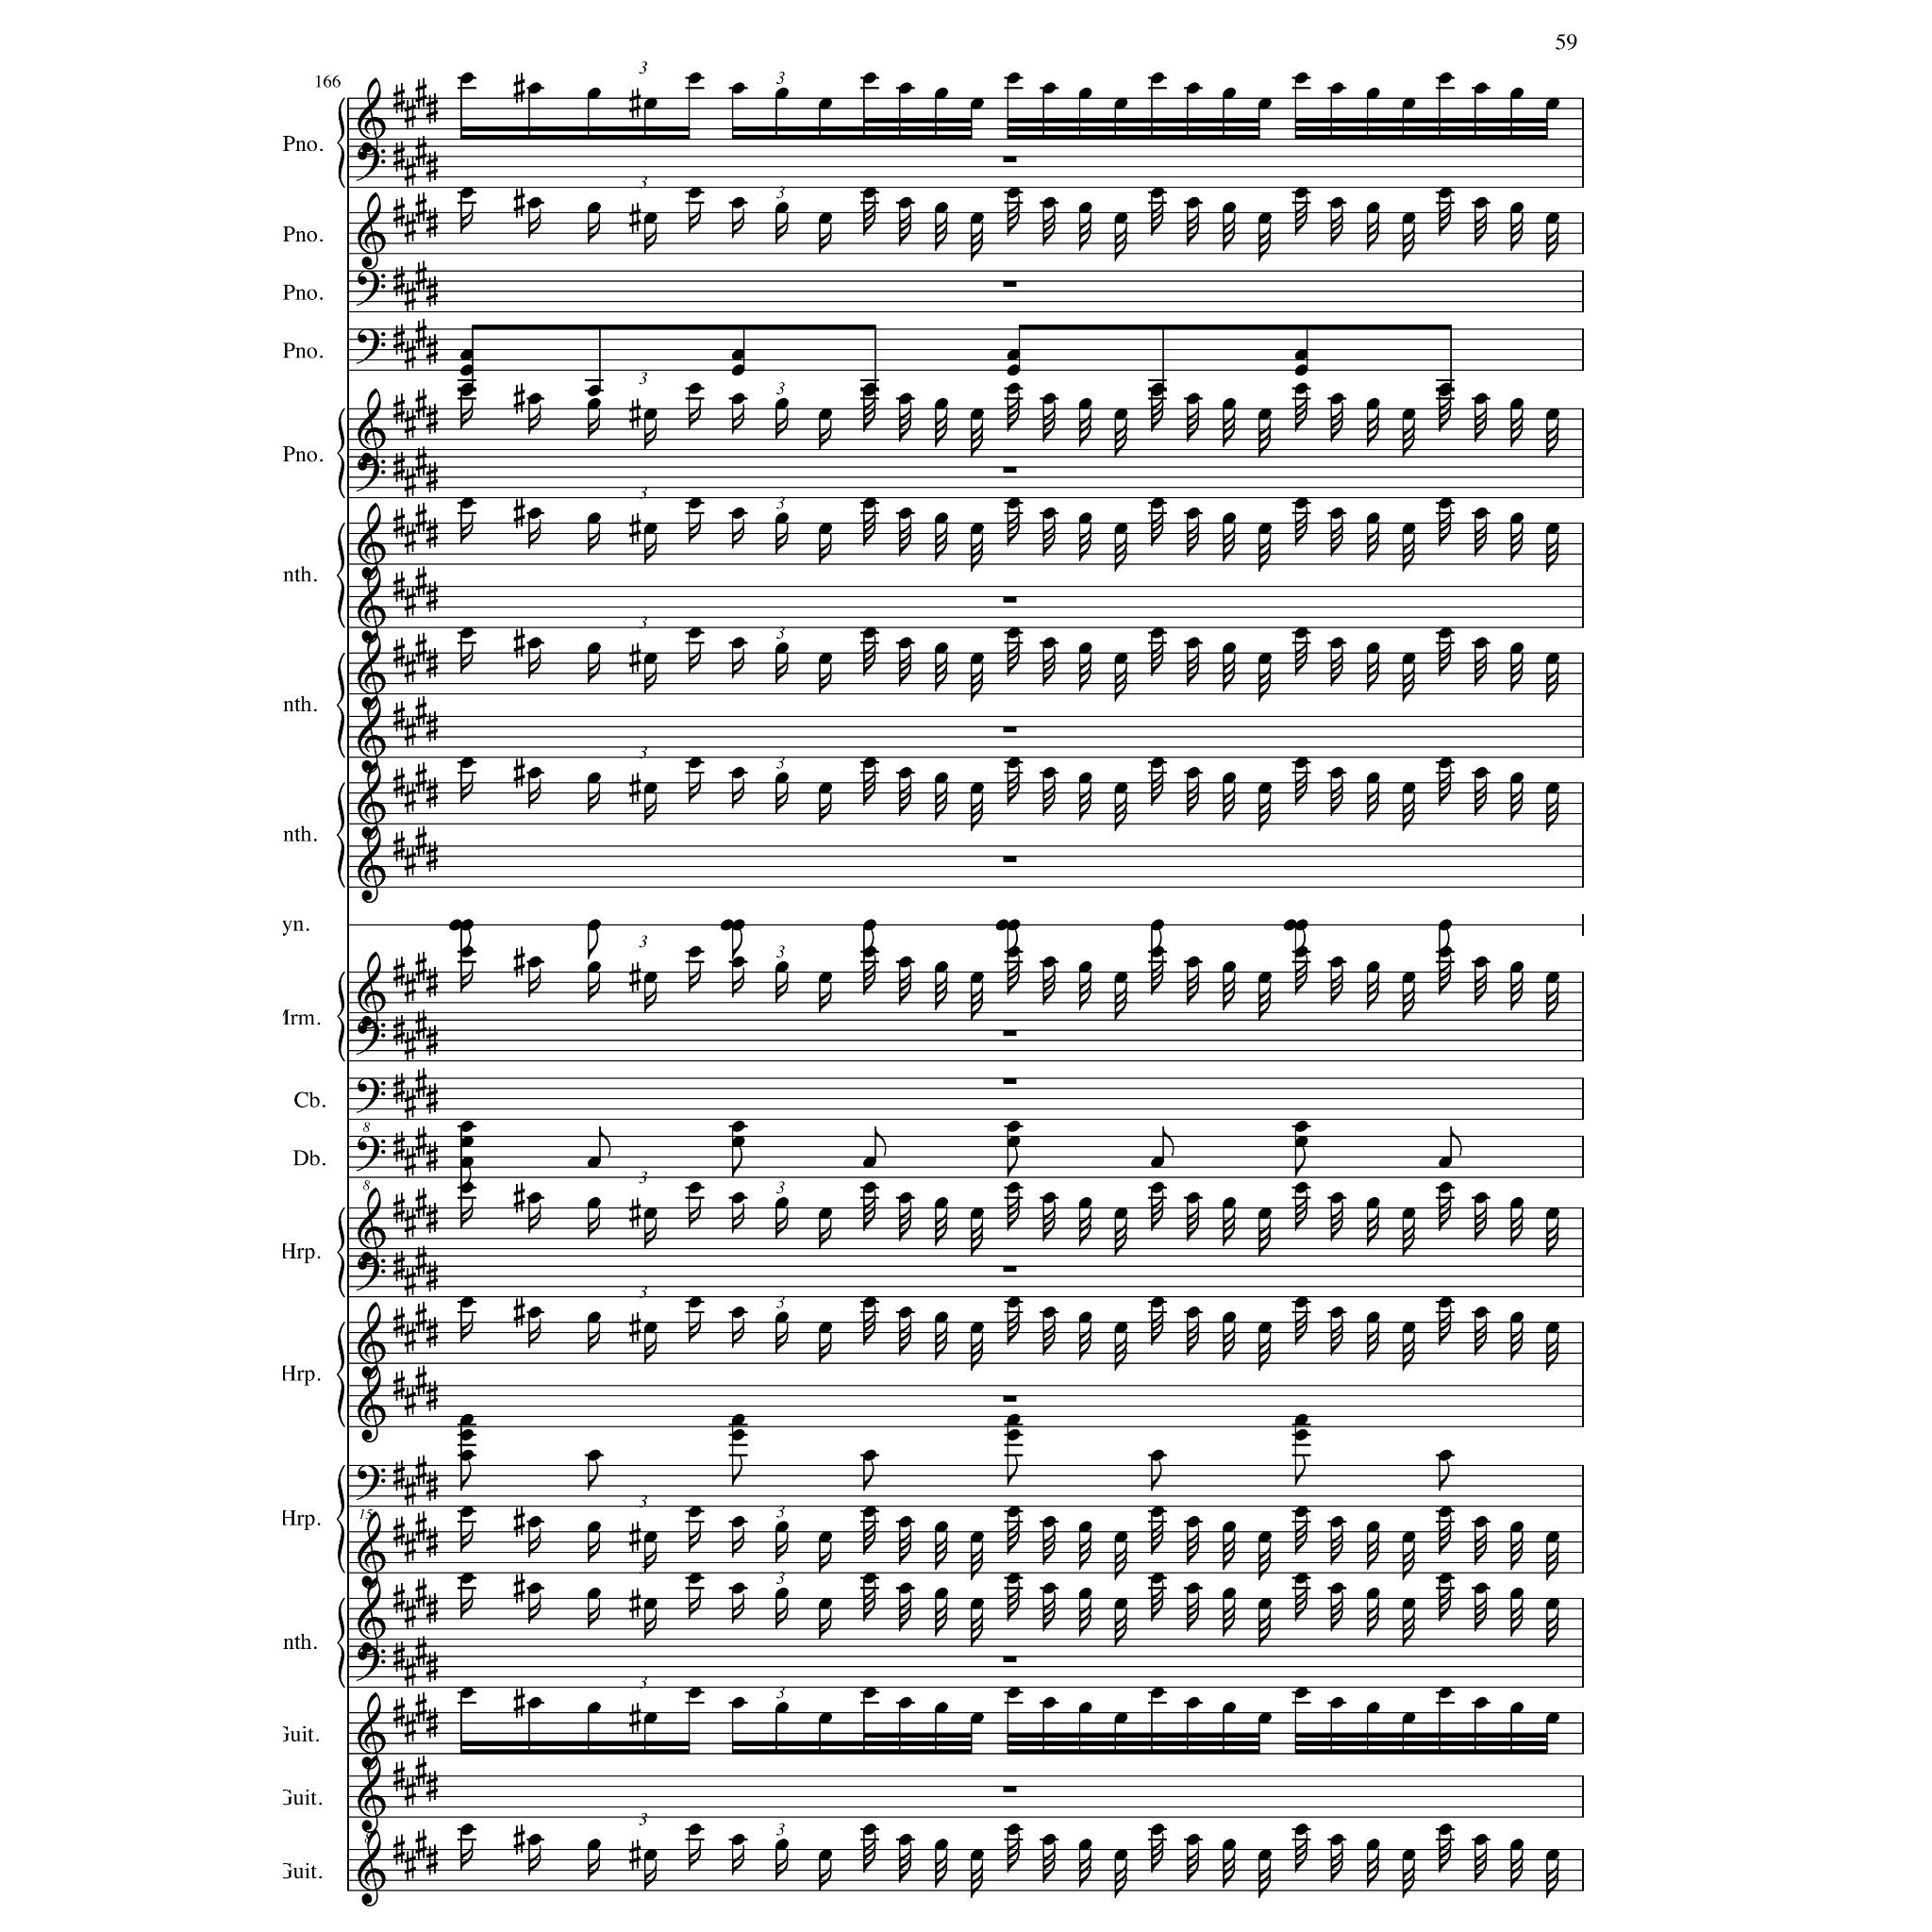brace: (336, 1464, 345, 1574), (336, 782, 345, 888), (336, 653, 345, 758), (336, 523, 345, 628), (336, 1322, 345, 1427), (336, 408, 345, 500), (336, 972, 345, 1062), (336, 98, 345, 189), (336, 1598, 345, 1689), (336, 1207, 345, 1298)
fClef: (355, 329, 385, 365), (355, 457, 385, 492), (355, 146, 385, 182), (355, 271, 385, 307), (355, 1136, 385, 1172), (355, 1020, 385, 1056), (355, 1078, 385, 1114), (355, 1256, 385, 1291), (355, 1646, 385, 1682), (355, 1465, 385, 1501)
flag16thDown: (588, 523, 601, 555), (588, 783, 601, 815), (588, 1598, 601, 1630), (588, 1849, 601, 1881), (588, 972, 601, 1004), (528, 777, 541, 809), (528, 1202, 541, 1234), (528, 647, 541, 679), (528, 1317, 541, 1349), (528, 1526, 541, 1558), (688, 202, 701, 234), (688, 398, 701, 430), (643, 223, 657, 255), (643, 419, 657, 451), (643, 662, 657, 694), (643, 1332, 657, 1364), (643, 1541, 657, 1574), (643, 792, 657, 824), (528, 208, 541, 240), (460, 398, 474, 430), (460, 202, 474, 234), (731, 1526, 744, 1558), (775, 1598, 789, 1630), (775, 523, 789, 555), (775, 783, 789, 815), (775, 972, 789, 1004), (731, 208, 744, 240), (731, 1202, 744, 1234), (731, 1317, 744, 1349), (731, 777, 744, 809), (731, 647, 744, 679), (819, 223, 832, 255), (819, 419, 832, 451), (819, 662, 832, 694), (775, 1849, 789, 1881), (819, 1332, 832, 1364), (819, 1541, 832, 1574), (819, 792, 832, 824), (588, 654, 601, 684), (588, 409, 601, 440), (588, 213, 601, 243), (588, 1532, 601, 1562), (588, 1208, 601, 1239), (588, 1323, 601, 1353), (528, 968, 541, 998), (528, 404, 541, 434), (528, 519, 541, 549), (528, 1845, 541, 1875), (528, 1594, 541, 1624), (643, 1860, 657, 1890), (688, 513, 701, 543), (688, 1312, 701, 1342), (688, 1523, 701, 1553), (688, 1589, 701, 1619), (688, 643, 701, 674), (688, 774, 701, 804), (688, 962, 701, 992), (688, 1198, 701, 1228), (643, 534, 657, 564), (643, 1609, 657, 1640), (643, 983, 657, 1013), (643, 1219, 657, 1249), (460, 1198, 474, 1228), (460, 962, 474, 992), (460, 1312, 474, 1342), (460, 513, 474, 543), (460, 643, 474, 674), (460, 774, 474, 804), (460, 1523, 474, 1553), (460, 1589, 474, 1619), (460, 1840, 474, 1870), (775, 213, 789, 243), (775, 409, 789, 440), (731, 1594, 744, 1624), (731, 1845, 744, 1875), (775, 1208, 789, 1239), (775, 1323, 789, 1353), (775, 1532, 789, 1562), (775, 654, 789, 684), (731, 404, 744, 434), (688, 1840, 701, 1870), (731, 519, 744, 549), (731, 968, 744, 998), (819, 1860, 832, 1890), (819, 534, 832, 564), (819, 1609, 832, 1640), (819, 1219, 832, 1249), (819, 983, 832, 1013)
flag8thDown: (460, 1164, 472, 1196), (1294, 929, 1306, 959), (1294, 1456, 1306, 1486), (1294, 1147, 1306, 1177), (1151, 929, 1162, 959), (1151, 1460, 1162, 1491), (1439, 1460, 1450, 1491), (1439, 929, 1450, 959), (588, 929, 599, 959), (588, 1460, 599, 1491), (460, 1460, 472, 1491), (460, 929, 472, 959), (731, 1147, 742, 1177), (731, 1456, 742, 1486), (731, 929, 742, 959), (1008, 929, 1017, 959), (1008, 1456, 1017, 1486), (1008, 1147, 1017, 1177), (864, 1460, 874, 1491), (864, 929, 874, 959)
flag8thUp: (1162, 1126, 1174, 1157), (1450, 1126, 1461, 1157), (599, 1126, 610, 1157), (874, 1126, 886, 1157)
gClef: (358, 502, 386, 581), (358, 77, 386, 157), (358, 632, 386, 711), (358, 1187, 386, 1266), (358, 824, 386, 904), (358, 951, 386, 1030), (358, 1577, 386, 1657), (358, 1755, 386, 1834), (358, 1828, 386, 1907), (358, 1364, 386, 1443), (358, 389, 386, 466), (358, 566, 386, 643), (358, 192, 386, 270), (358, 696, 386, 774), (358, 762, 386, 840), (358, 1692, 386, 1770), (358, 1302, 386, 1379), (358, 1511, 386, 1589)
noteheadBlack: (1077, 1587, 1092, 1600), (1077, 1838, 1092, 1851), (1113, 211, 1128, 225), (1113, 408, 1128, 421), (1113, 523, 1128, 536), (1113, 1711, 1128, 1724), (1077, 1521, 1092, 1534), (1041, 196, 1057, 209), (1041, 392, 1057, 406), (1041, 1306, 1057, 1319), (1041, 1696, 1057, 1709), (1077, 87, 1092, 100), (1077, 202, 1092, 215), (1077, 641, 1092, 655), (1077, 772, 1092, 785), (1077, 960, 1092, 974), (1077, 1196, 1092, 1209), (1077, 1311, 1092, 1324), (1185, 196, 1200, 209), (1185, 392, 1200, 406), (1185, 1306, 1200, 1319), (1185, 1696, 1200, 1709), (1149, 919, 1164, 932), (1149, 945, 1164, 958), (1149, 1181, 1164, 1194), (1149, 1296, 1164, 1309), (1149, 1449, 1164, 1462), (1149, 1506, 1164, 1519), (1149, 1572, 1164, 1585), (1149, 1823, 1164, 1836), (1149, 757, 1164, 770), (1149, 72, 1164, 85), (1149, 385, 1164, 398), (1149, 626, 1164, 640), (1509, 87, 1524, 100), (1509, 202, 1524, 215), (1509, 641, 1524, 655), (1509, 772, 1524, 785), (1509, 960, 1524, 974), (1509, 1196, 1524, 1209), (1509, 1311, 1524, 1324), (1509, 1521, 1524, 1534), (1509, 1587, 1524, 1600), (1509, 1838, 1524, 1851), (1438, 72, 1453, 85), (1438, 385, 1453, 398), (1438, 626, 1453, 640), (1438, 757, 1453, 770), (1438, 919, 1453, 932), (1438, 945, 1453, 958), (1438, 1181, 1453, 1194), (1438, 1296, 1453, 1309), (1438, 1449, 1453, 1462), (1438, 1506, 1453, 1519), (1438, 1572, 1453, 1585), (1438, 1823, 1453, 1836), (526, 196, 541, 209), (526, 392, 541, 406), (526, 1306, 541, 1319), (526, 1696, 541, 1709), (458, 1413, 474, 1426), (458, 1506, 474, 1519), (458, 1572, 474, 1585), (458, 1823, 474, 1836), (458, 1428, 474, 1441), (458, 757, 474, 770), (458, 72, 474, 85), (458, 385, 474, 398), (458, 364, 474, 377), (458, 349, 474, 362), (458, 626, 474, 640), (458, 919, 474, 932), (458, 945, 474, 958), (458, 1181, 474, 1194), (458, 1296, 474, 1309), (458, 1449, 474, 1462), (934, 87, 949, 100), (934, 202, 949, 215), (934, 641, 949, 655), (934, 772, 949, 785), (934, 960, 949, 974), (934, 1196, 949, 1209), (934, 1311, 949, 1324), (934, 1521, 949, 1534), (934, 1587, 949, 1600), (934, 1838, 949, 1851), (1006, 1413, 1021, 1426), (1006, 1506, 1021, 1519), (1006, 1572, 1021, 1585), (1006, 1823, 1021, 1836), (1006, 1428, 1021, 1441), (1006, 72, 1021, 85), (1006, 364, 1021, 377), (1006, 349, 1021, 362), (1006, 626, 1021, 640), (1006, 757, 1021, 770), (994, 919, 1009, 932), (1006, 919, 1021, 932), (1006, 945, 1021, 958), (1006, 1181, 1021, 1194), (1006, 1296, 1021, 1309), (774, 772, 789, 785), (774, 960, 789, 974), (774, 1196, 789, 1209), (774, 1311, 789, 1324), (774, 1521, 789, 1534), (774, 1587, 789, 1600), (774, 1838, 789, 1851), (774, 641, 789, 655), (774, 87, 789, 100), (774, 202, 789, 215), (730, 1696, 745, 1709), (719, 919, 734, 932), (730, 196, 745, 209), (730, 364, 745, 377), (730, 349, 745, 362), (730, 392, 745, 406), (730, 919, 745, 932), (730, 1306, 745, 1319), (730, 1428, 745, 1441), (730, 1413, 745, 1426), (1257, 1711, 1271, 1724), (1257, 211, 1271, 225), (1257, 408, 1271, 421), (1257, 523, 1271, 536), (1223, 1196, 1236, 1209), (1223, 1311, 1236, 1324), (1223, 1521, 1236, 1534), (1223, 1587, 1236, 1600), (1223, 1838, 1236, 1851), (1223, 960, 1236, 974), (1223, 87, 1236, 100), (1223, 202, 1236, 215), (1223, 641, 1236, 655), (1223, 772, 1236, 785), (1330, 392, 1343, 406), (1330, 196, 1343, 209), (1330, 1696, 1343, 1709), (1330, 1306, 1343, 1319), (1294, 1823, 1307, 1836), (1294, 1181, 1307, 1194), (1294, 1296, 1307, 1309), (1294, 1428, 1307, 1441), (1294, 1413, 1307, 1426), (1294, 1506, 1307, 1519), (1294, 1572, 1307, 1585), (1294, 349, 1307, 362), (1294, 72, 1307, 85), (1294, 364, 1307, 377), (1294, 626, 1307, 640), (1294, 757, 1307, 770), (1283, 919, 1296, 932), (1294, 919, 1307, 932), (1294, 945, 1307, 958), (1545, 211, 1558, 225), (1545, 408, 1558, 421), (1545, 523, 1558, 536), (1545, 1711, 1558, 1724), (1402, 211, 1415, 225), (1402, 408, 1415, 421), (1402, 523, 1415, 536), (1402, 1711, 1415, 1724), (1366, 87, 1379, 100), (1366, 202, 1379, 215), (1366, 641, 1379, 655), (1366, 772, 1379, 785), (1366, 960, 1379, 974), (1366, 1196, 1379, 1209), (1366, 1311, 1379, 1324), (1366, 1521, 1379, 1534), (1366, 1587, 1379, 1600), (1366, 1838, 1379, 1851), (1474, 196, 1487, 209), (1474, 392, 1487, 406), (1474, 1306, 1487, 1319), (1474, 1696, 1487, 1709), (587, 1196, 600, 1209), (587, 1311, 600, 1324), (587, 1449, 600, 1462), (587, 1521, 600, 1534), (587, 1587, 600, 1600), (587, 1838, 600, 1851), (587, 87, 600, 100), (587, 202, 600, 215), (587, 385, 600, 398), (587, 641, 600, 655), (587, 772, 600, 785), (587, 919, 600, 932), (587, 960, 600, 974), (688, 1296, 701, 1309), (688, 1506, 701, 1519), (688, 1572, 701, 1585), (688, 1823, 701, 1836), (688, 1181, 701, 1194), (688, 72, 701, 85), (688, 626, 701, 640), (688, 757, 701, 770), (688, 945, 701, 958), (643, 211, 657, 225), (643, 408, 657, 421), (643, 523, 657, 536), (643, 1711, 657, 1724), (449, 919, 462, 932), (970, 211, 983, 225), (970, 408, 983, 421), (898, 196, 911, 209), (898, 392, 911, 406), (898, 1306, 911, 1319), (898, 1696, 911, 1709), (970, 523, 983, 536), (970, 1711, 983, 1724), (862, 1506, 875, 1519), (862, 1572, 875, 1585), (862, 1823, 875, 1836), (862, 1449, 875, 1462), (862, 72, 875, 85), (862, 385, 875, 398), (862, 626, 875, 640), (862, 757, 875, 770), (862, 919, 875, 932), (862, 945, 875, 958), (862, 1181, 875, 1194), (862, 1296, 875, 1309), (819, 211, 832, 225), (819, 408, 832, 421), (819, 523, 832, 536), (819, 1711, 832, 1724), (1041, 83, 1057, 94), (1077, 1702, 1092, 1713), (1113, 1323, 1128, 1334), (1113, 98, 1128, 109), (1113, 653, 1128, 664), (1113, 783, 1128, 794), (1113, 972, 1128, 983), (1113, 1207, 1128, 1219), (1113, 1532, 1128, 1543), (1113, 1598, 1128, 1609), (1113, 1849, 1128, 1860), (1041, 1583, 1057, 1594), (1041, 508, 1057, 519), (1041, 638, 1057, 649), (1041, 768, 1057, 779), (1041, 957, 1057, 968), (1041, 1192, 1057, 1204), (1041, 1517, 1057, 1528), (1041, 1834, 1057, 1845), (1077, 398, 1092, 409), (1077, 513, 1092, 525), (1185, 508, 1200, 519), (1185, 83, 1200, 94), (1185, 638, 1200, 649), (1185, 768, 1200, 779), (1185, 957, 1200, 968), (1185, 1192, 1200, 1204), (1185, 1517, 1200, 1528), (1185, 1583, 1200, 1594), (1185, 1834, 1200, 1845), (1149, 1157, 1164, 1168), (1149, 1687, 1164, 1698), (1149, 187, 1164, 198), (1149, 383, 1164, 394), (1149, 498, 1164, 509), (1509, 398, 1524, 409), (1509, 513, 1524, 525), (1509, 1702, 1524, 1713), (1438, 187, 1453, 198), (1438, 383, 1453, 394), (1438, 498, 1453, 509), (1438, 1157, 1453, 1168), (1438, 1687, 1453, 1698), (526, 1834, 541, 1845), (526, 508, 541, 519), (526, 638, 541, 649), (526, 768, 541, 779), (526, 957, 541, 968), (526, 1192, 541, 1204), (526, 1517, 541, 1528), (526, 1583, 541, 1594), (526, 83, 541, 94), (458, 1687, 474, 1698), (458, 187, 474, 198), (458, 383, 474, 394), (458, 498, 474, 509), (458, 1157, 474, 1168), (458, 1136, 474, 1147), (458, 1121, 474, 1132), (934, 398, 949, 409), (934, 513, 949, 525), (934, 1702, 949, 1713), (1006, 1687, 1021, 1698), (1006, 383, 1021, 394), (1006, 187, 1021, 198), (1006, 498, 1021, 509), (1006, 1136, 1021, 1147), (1006, 1121, 1021, 1132), (774, 1702, 789, 1713), (774, 398, 789, 409), (774, 513, 789, 525), (730, 1834, 745, 1845), (730, 83, 745, 94), (730, 508, 745, 519), (730, 638, 745, 649), (730, 768, 745, 779), (730, 957, 745, 968), (730, 1136, 745, 1147), (730, 1121, 745, 1132), (730, 1192, 745, 1204), (730, 1517, 745, 1528), (730, 1583, 745, 1594), (1257, 1849, 1271, 1860), (1257, 1598, 1271, 1609), (1257, 98, 1271, 109), (1257, 653, 1271, 664), (1257, 783, 1271, 794), (1257, 972, 1271, 983), (1257, 1207, 1271, 1219), (1257, 1323, 1271, 1334), (1257, 1532, 1271, 1543), (1223, 1702, 1236, 1713), (1223, 398, 1236, 409), (1223, 513, 1236, 525), (1330, 1192, 1343, 1204), (1330, 957, 1343, 968), (1330, 768, 1343, 779), (1330, 638, 1343, 649), (1330, 508, 1343, 519), (1330, 1834, 1343, 1845), (1330, 1583, 1343, 1594), (1330, 1517, 1343, 1528), (1330, 83, 1343, 94), (1294, 1121, 1307, 1132), (1294, 1687, 1307, 1698), (1294, 1136, 1307, 1147), (1294, 187, 1307, 198), (1294, 383, 1307, 394), (1294, 498, 1307, 509), (1545, 783, 1558, 794), (1545, 98, 1558, 109), (1545, 653, 1558, 664), (1545, 972, 1558, 983), (1545, 1207, 1558, 1219), (1545, 1323, 1558, 1334), (1545, 1532, 1558, 1543), (1545, 1598, 1558, 1609), (1545, 1849, 1558, 1860), (1402, 98, 1415, 109), (1402, 1849, 1415, 1860), (1402, 653, 1415, 664), (1402, 783, 1415, 794), (1402, 972, 1415, 983), (1402, 1207, 1415, 1219), (1402, 1323, 1415, 1334), (1402, 1532, 1415, 1543), (1402, 1598, 1415, 1609), (1366, 398, 1379, 409), (1366, 513, 1379, 525), (1366, 1702, 1379, 1713), (1474, 1192, 1487, 1204), (1474, 83, 1487, 94), (1474, 508, 1487, 519), (1474, 638, 1487, 649), (1474, 768, 1487, 779), (1474, 957, 1487, 968), (1474, 1517, 1487, 1528), (1474, 1583, 1487, 1594), (1474, 1834, 1487, 1845), (587, 1702, 600, 1713), (587, 1157, 600, 1168), (587, 398, 600, 409), (587, 513, 600, 525), (688, 1687, 701, 1698), (688, 187, 701, 198), (688, 383, 701, 394), (688, 498, 701, 509), (643, 1532, 657, 1543), (643, 98, 657, 109), (643, 653, 657, 664), (643, 783, 657, 794), (643, 972, 657, 983), (643, 1207, 657, 1219), (643, 1323, 657, 1334), (643, 1598, 657, 1609), (643, 1849, 657, 1860), (970, 98, 983, 109), (898, 1834, 911, 1845), (898, 508, 911, 519), (898, 638, 911, 649), (898, 768, 911, 779), (898, 957, 911, 968), (898, 1192, 911, 1204), (898, 1517, 911, 1528), (898, 1583, 911, 1594), (898, 83, 911, 94), (970, 653, 983, 664), (970, 783, 983, 794), (970, 972, 983, 983), (970, 1207, 983, 1219), (970, 1323, 983, 1334), (970, 1532, 983, 1543), (970, 1598, 983, 1609), (970, 1849, 983, 1860), (862, 1687, 875, 1698), (862, 187, 875, 198), (862, 383, 875, 394), (862, 498, 875, 509), (862, 1157, 875, 1168), (819, 783, 832, 794), (819, 98, 832, 109), (819, 653, 832, 664), (819, 972, 832, 983), (819, 1207, 832, 1219), (819, 1323, 832, 1334), (819, 1532, 832, 1543), (819, 1598, 832, 1609), (819, 1849, 832, 1860)
restWhole: (1002, 1266, 1017, 1274), (1002, 281, 1017, 289), (1002, 466, 1017, 474), (1002, 596, 1017, 604), (1002, 726, 1017, 734), (1002, 1030, 1017, 1038), (1002, 1077, 1017, 1085), (1002, 1396, 1017, 1402), (1002, 1657, 1017, 1662), (1002, 1787, 1017, 1792), (1002, 157, 1017, 162), (1002, 857, 1017, 862)
